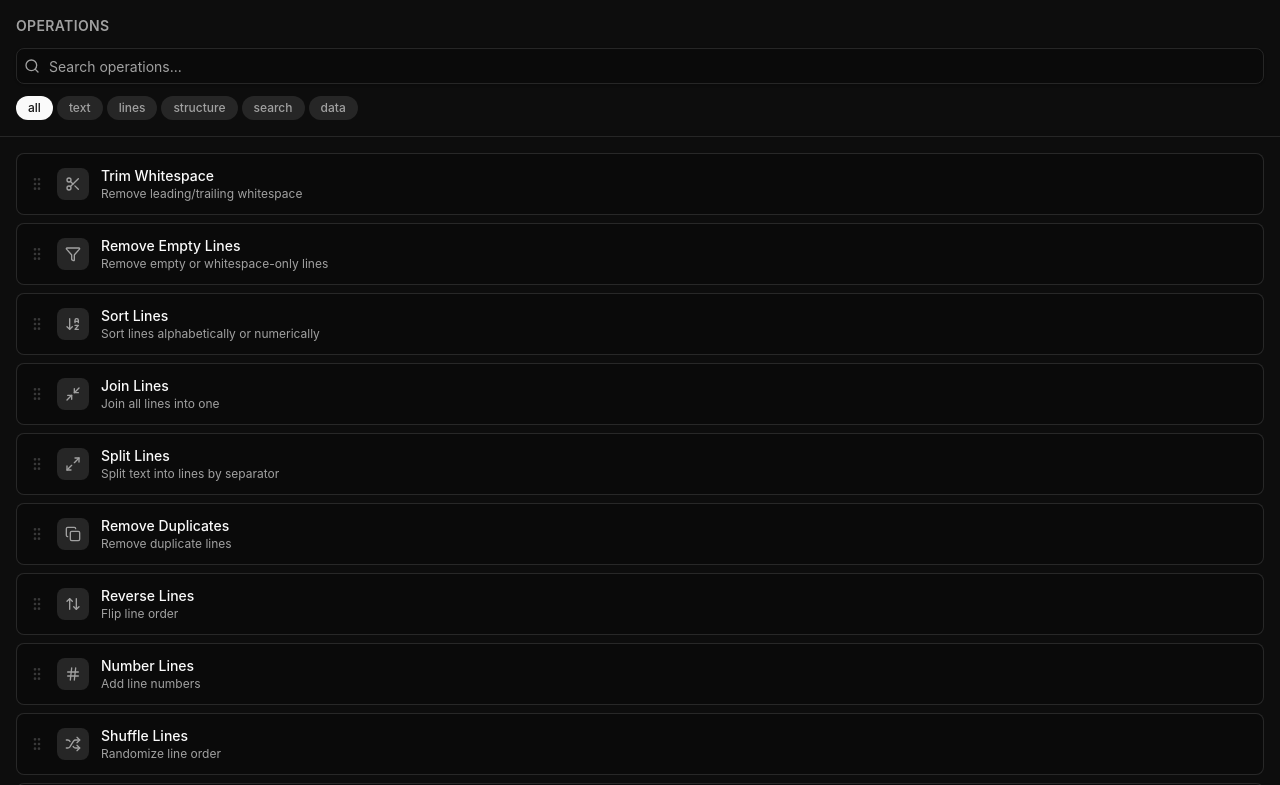
Test: TransformerToolbox › should show empty state when no operations match
Step 1. Type "nonexistent operation" into the field with placeholder "Search operations..." → (640, 66), box [16,48,1264,84]
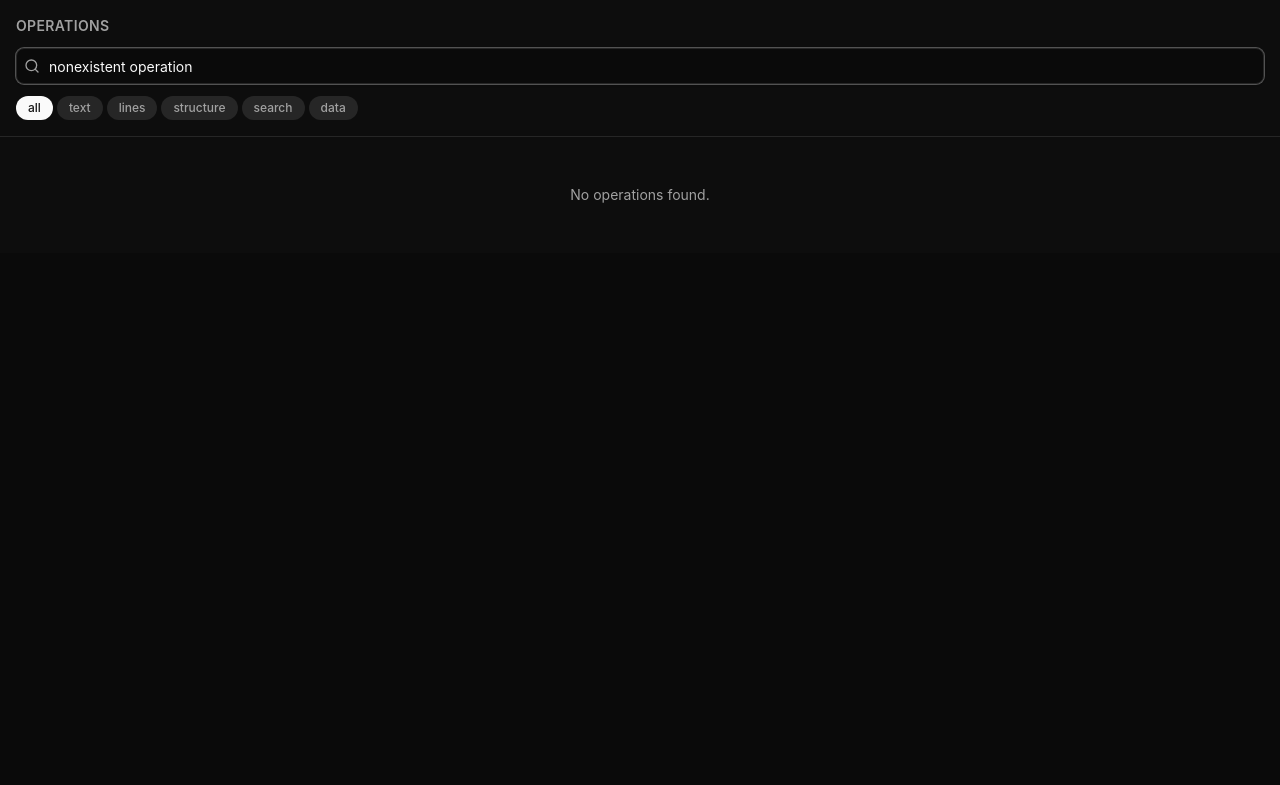
Expected: the text "No operations found." is shown, [570,186,710,203]
